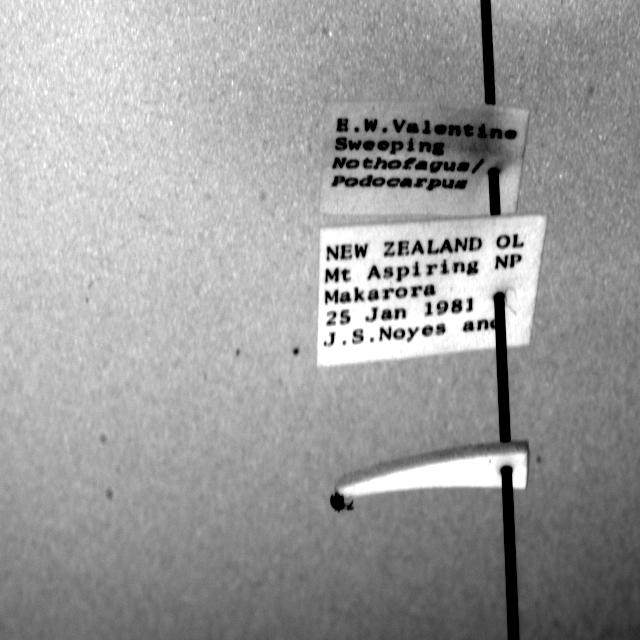typed_label: (318, 216, 546, 366), (320, 101, 529, 218)
